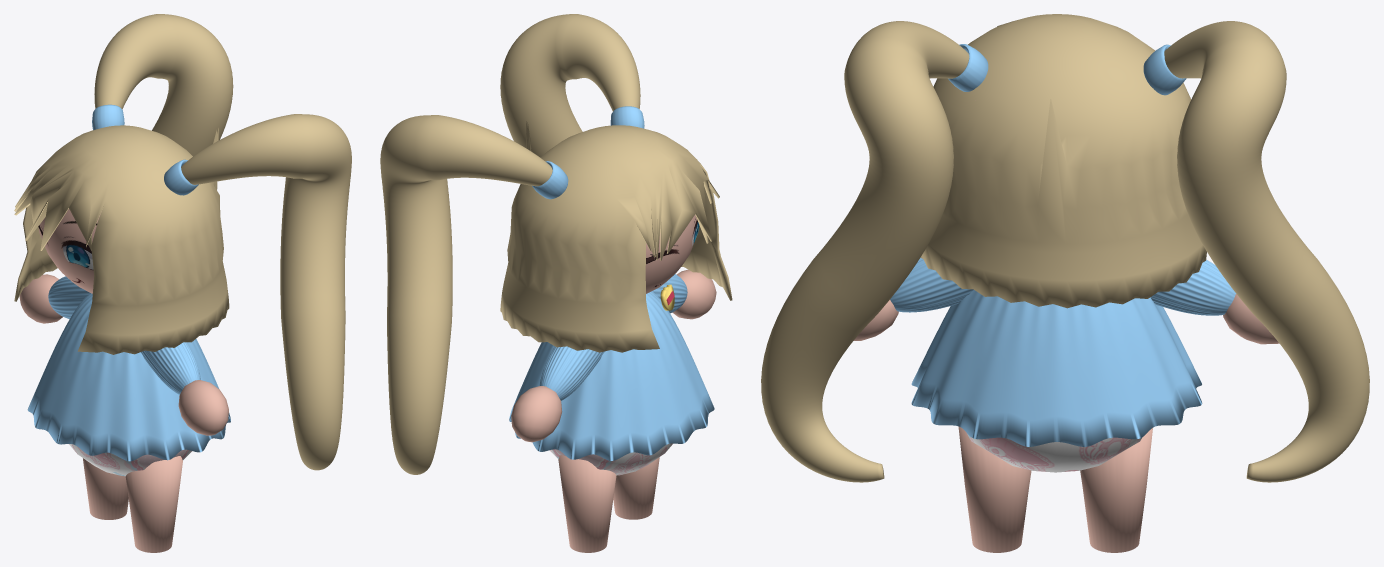
The model's file is diaperdollstella.glb.
3 views of the same model, side by side, from view 1: azimuth 30°, elevation 25°; view 2: azimuth 150°, elevation 25°; view 3: azimuth 270°, elevation 25° (orthographic). The views are drawn at different scales.
Parts seen in each view (by area): view 1: head.006, BezierCurve.002, head.003, BezierCurve.001, head.004, head.001, head, head.005, head.010; view 2: head.006, BezierCurve.001, head.003, BezierCurve.002, head.004, head.001, head, head.005, head.010; view 3: head.006, BezierCurve.002, head.003, BezierCurve.001, head.004, head, head.005, head.010.
Boxes of the visible parts, x1=… form: head.006: x1=14, y1=125, x2=229, y2=354; BezierCurve.002: x1=181, y1=114, x2=351, y2=470; head.003: x1=27, y1=276, x2=230, y2=461; BezierCurve.001: x1=94, y1=14, x2=233, y2=156; head.004: x1=19, y1=274, x2=228, y2=552; head.001: x1=38, y1=209, x2=101, y2=293; head: x1=69, y1=444, x2=191, y2=476; head.005: x1=92, y1=104, x2=124, y2=130; head.010: x1=164, y1=159, x2=198, y2=195; head.006: x1=500, y1=121, x2=732, y2=352; BezierCurve.001: x1=380, y1=115, x2=552, y2=474; head.003: x1=509, y1=274, x2=714, y2=460; BezierCurve.002: x1=500, y1=14, x2=640, y2=157; head.004: x1=511, y1=269, x2=716, y2=552; head.001: x1=645, y1=215, x2=699, y2=293; head: x1=550, y1=443, x2=673, y2=475; head.005: x1=532, y1=161, x2=568, y2=199; head.010: x1=610, y1=106, x2=644, y2=128; head.006: x1=920, y1=14, x2=1206, y2=308; BezierCurve.002: x1=761, y1=21, x2=969, y2=482; head.003: x1=890, y1=258, x2=1236, y2=446; BezierCurve.001: x1=1164, y1=21, x2=1369, y2=482; head.004: x1=854, y1=294, x2=1279, y2=552; head: x1=966, y1=432, x2=1142, y2=472; head.005: x1=1143, y1=44, x2=1186, y2=95; head.010: x1=948, y1=44, x2=988, y2=91.
Bounding box in the file's own units: 3.86 × 6.08 × 5.9.
10 materials, 2 textured.
